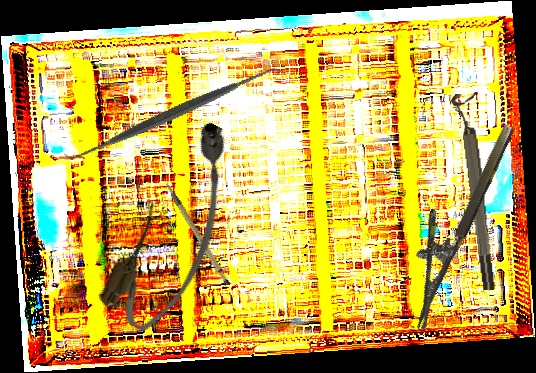Cannula: (93, 114, 263, 341)
Fixation Ring: (450, 92, 499, 292)
Needle Holder: (383, 110, 518, 332)
Scalpel Handle: (165, 175, 232, 292)
Spatula Surgical: (63, 0, 286, 227)
